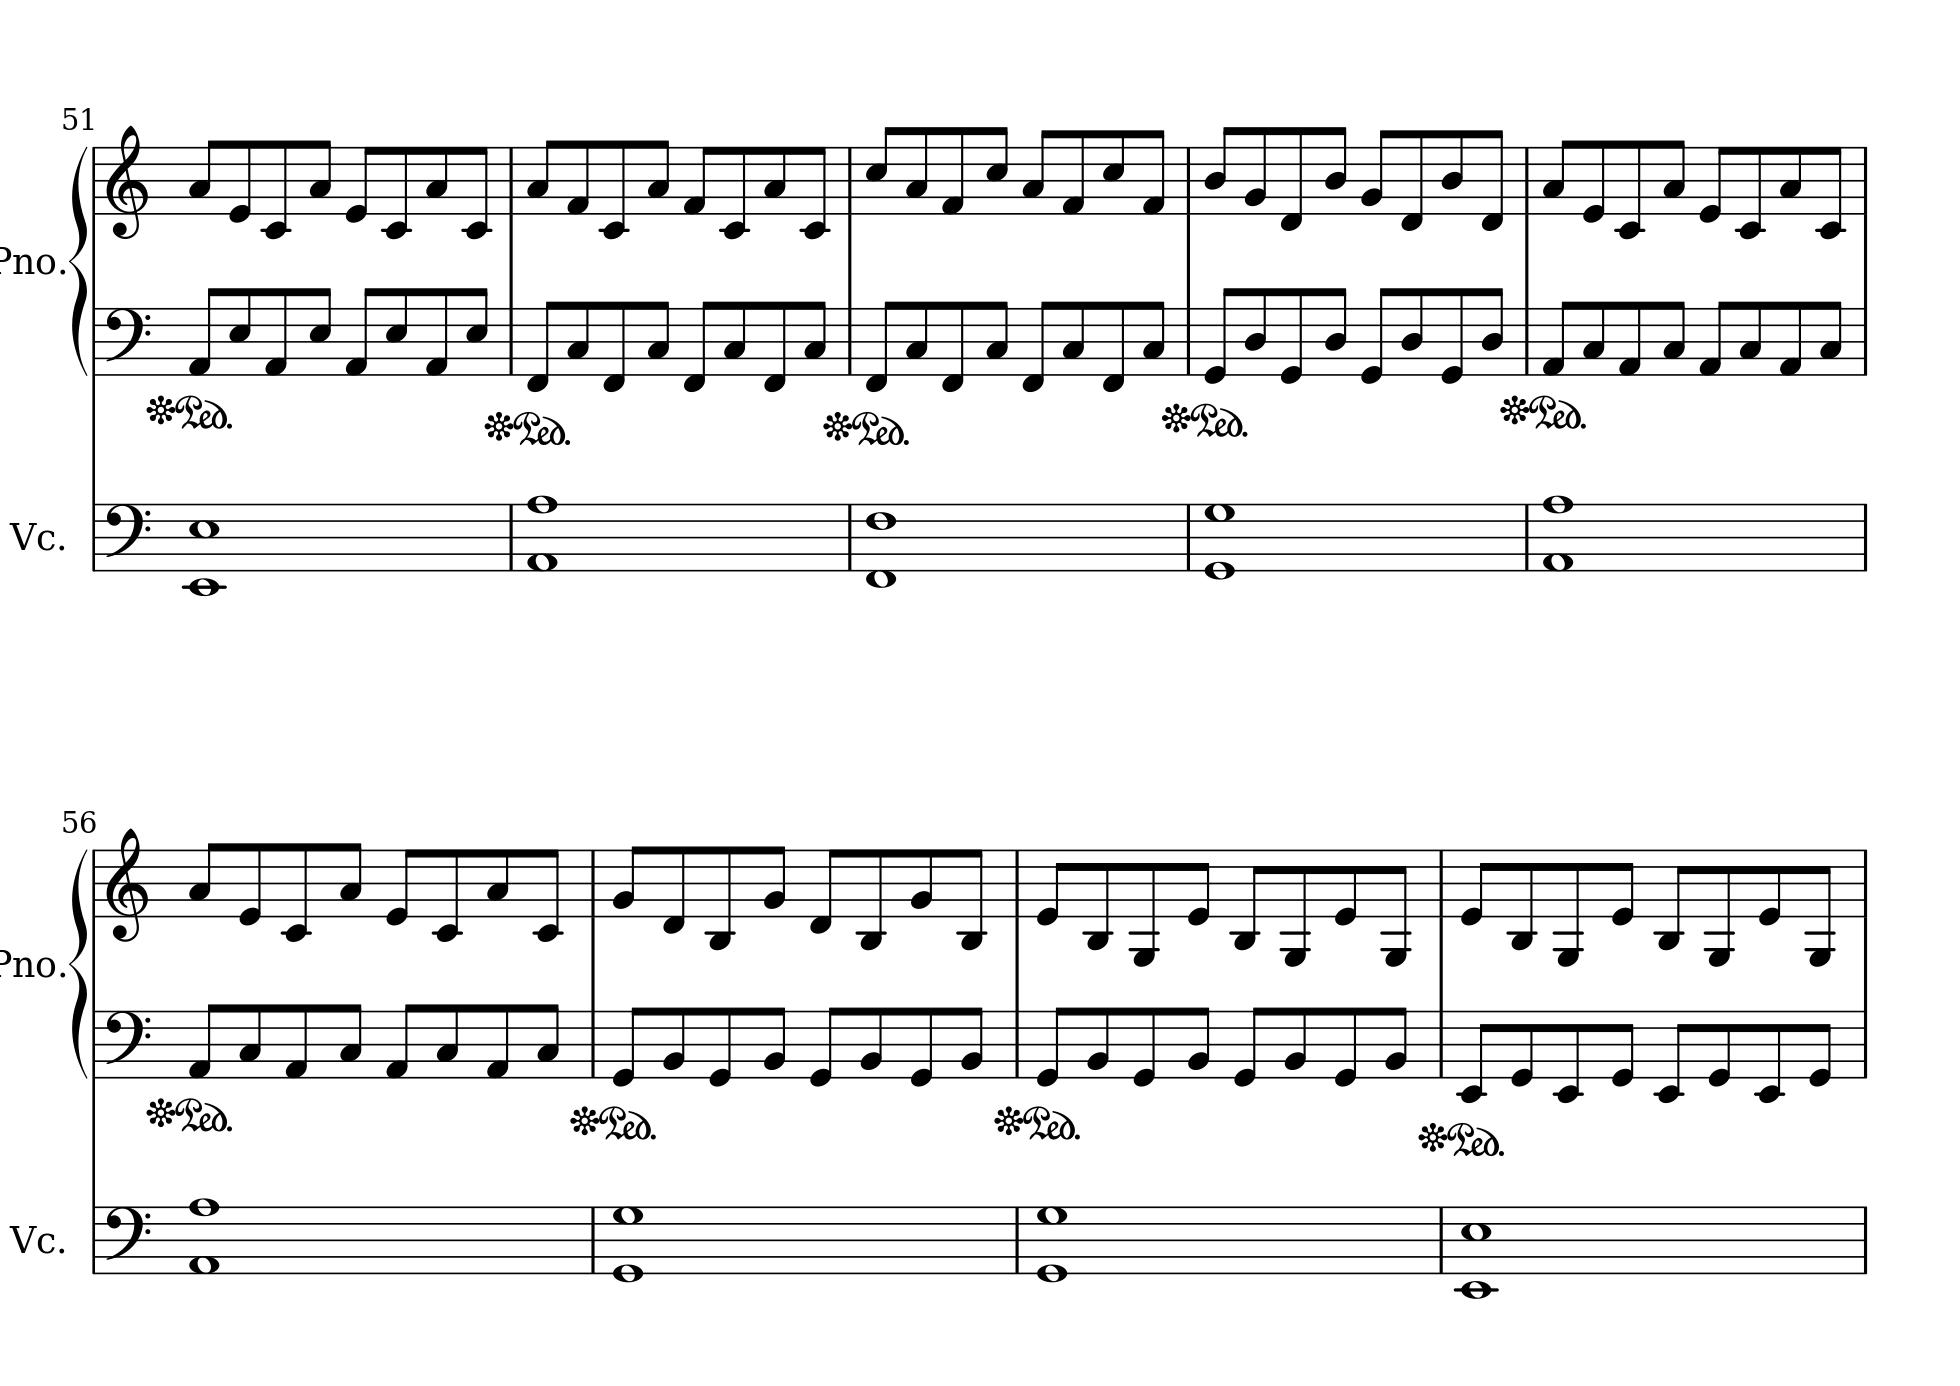1: (81, 105, 94, 133)
1_-1_6: (861, 502, 897, 592)
1_-2_5: (1452, 1204, 1501, 1299), (187, 502, 225, 603)
1_0_7: (1201, 499, 1236, 580), (1035, 1203, 1068, 1282), (610, 1203, 643, 1282)
1_1_8: (1539, 492, 1576, 574), (184, 1195, 220, 1278), (523, 492, 559, 573)
5: (61, 103, 78, 132), (61, 807, 78, 834)
6: (79, 805, 97, 834)
8_-1: (679, 298, 715, 394), (862, 298, 897, 394), (1020, 298, 1054, 394), (805, 846, 841, 934), (525, 298, 558, 394), (1276, 124, 1305, 234), (1398, 127, 1426, 232), (1477, 127, 1506, 232), (600, 298, 628, 394), (760, 298, 789, 394), (939, 298, 967, 394), (660, 844, 688, 936), (1101, 298, 1128, 394)
8_-2: (1653, 1008, 1692, 1104), (1614, 136, 1647, 241), (1458, 1006, 1494, 1102), (598, 136, 630, 241), (259, 138, 291, 240), (280, 841, 312, 943), (460, 145, 493, 240), (381, 144, 412, 241), (799, 144, 831, 241), (1735, 144, 1767, 241), (532, 846, 564, 943), (718, 145, 750, 241), (1815, 144, 1846, 240), (432, 847, 463, 943), (1755, 1006, 1785, 1105), (1554, 1008, 1584, 1105)
8_-3: (1230, 847, 1266, 951), (1654, 847, 1690, 951), (705, 844, 736, 952), (856, 847, 888, 951), (957, 847, 988, 949), (1083, 847, 1114, 949), (1507, 847, 1539, 949)
8_-5: (1704, 847, 1737, 967), (1129, 846, 1161, 967), (1554, 846, 1585, 967), (1281, 847, 1312, 967), (1381, 847, 1413, 966), (1806, 847, 1836, 967)
8_0: (1203, 285, 1237, 385), (1359, 285, 1392, 387), (807, 1003, 843, 1089), (1231, 1003, 1267, 1089), (1278, 285, 1306, 387), (1438, 285, 1467, 387), (1035, 1003, 1069, 1087), (384, 844, 418, 927), (610, 1003, 643, 1089), (1698, 144, 1731, 225), (343, 144, 376, 223), (1461, 847, 1492, 927), (237, 840, 265, 927), (1036, 847, 1068, 925), (907, 1003, 936, 1089), (1131, 1003, 1159, 1089), (1332, 1003, 1360, 1089), (706, 1005, 735, 1089), (226, 138, 253, 225), (1581, 138, 1608, 225), (1186, 846, 1213, 928), (1611, 847, 1638, 928), (1758, 847, 1785, 928), (1333, 847, 1360, 927), (1611, 1008, 1638, 1087), (1707, 1008, 1734, 1087), (1807, 1008, 1834, 1087), (1510, 1006, 1536, 1087)
8_1: (342, 283, 378, 378), (186, 285, 222, 376), (184, 1000, 220, 1080), (421, 285, 451, 378), (382, 1000, 417, 1078), (1540, 298, 1573, 378), (1698, 298, 1731, 376), (1060, 127, 1089, 217), (262, 285, 289, 378), (940, 124, 967, 216), (1140, 127, 1167, 216), (681, 144, 712, 217), (282, 1000, 310, 1080), (483, 1000, 511, 1080), (1777, 298, 1806, 376), (1617, 298, 1644, 378), (565, 138, 592, 216)
8_2: (1359, 127, 1392, 216), (1242, 124, 1269, 217), (612, 843, 643, 918), (1383, 1003, 1410, 1081), (760, 1003, 787, 1080), (958, 1003, 985, 1080), (1185, 1005, 1212, 1080), (762, 843, 787, 919), (661, 1005, 687, 1080), (858, 1005, 883, 1080), (1086, 1005, 1111, 1080), (1282, 1005, 1308, 1080), (909, 846, 934, 919)
8_3: (1021, 127, 1053, 216), (187, 136, 220, 214), (187, 840, 220, 918), (904, 124, 931, 217), (526, 136, 558, 214), (1542, 136, 1573, 214), (337, 840, 364, 919), (237, 1000, 264, 1080), (433, 1000, 460, 1080), (565, 298, 592, 376), (721, 298, 748, 376), (984, 298, 1011, 376), (1581, 298, 1608, 376), (645, 136, 670, 216), (337, 1000, 363, 1080), (535, 1000, 561, 1080), (645, 298, 670, 376), (802, 298, 828, 376), (904, 298, 930, 376), (1062, 298, 1087, 376), (1141, 298, 1167, 376), (1738, 298, 1764, 376), (1819, 298, 1845, 376), (424, 144, 451, 217), (762, 144, 789, 217), (1777, 144, 1804, 216), (484, 847, 511, 919), (307, 136, 331, 216), (1662, 138, 1686, 216), (1662, 298, 1686, 376)
8_4: (1203, 124, 1236, 216), (1242, 283, 1269, 376), (1479, 285, 1506, 376), (1440, 127, 1467, 214), (1323, 285, 1348, 376), (1399, 285, 1425, 376), (1323, 124, 1348, 214)
8_5: (865, 124, 897, 216), (226, 285, 253, 376), (984, 124, 1009, 216), (384, 285, 409, 376), (463, 285, 489, 376), (1101, 127, 1126, 216), (307, 285, 331, 376)
Brace: (69, 139, 91, 378), (67, 841, 90, 1080)
Fclef: (102, 1008, 153, 1078), (103, 1204, 154, 1275), (102, 304, 151, 376), (103, 501, 153, 573)
Gclef: (103, 121, 150, 240), (103, 825, 150, 942)
Pno: (1, 243, 55, 277), (1, 946, 55, 979)
Single_barline: (1432, 849, 1452, 916), (1179, 504, 1198, 570), (1518, 145, 1536, 214), (841, 502, 859, 571), (502, 502, 520, 570), (1518, 502, 1536, 570), (583, 1206, 601, 1273), (1857, 847, 1873, 919), (1857, 145, 1873, 216), (502, 145, 519, 214), (841, 145, 858, 214), (1180, 145, 1197, 214), (1857, 307, 1873, 376), (585, 849, 601, 918), (585, 1009, 601, 1078), (1009, 1009, 1026, 1078), (502, 307, 519, 375), (1519, 307, 1536, 375), (1857, 502, 1873, 570), (85, 1206, 102, 1273), (1009, 1206, 1026, 1273), (1434, 1206, 1450, 1273), (1009, 850, 1026, 916), (1857, 1206, 1873, 1272), (87, 502, 102, 571), (1434, 1009, 1449, 1078), (1857, 1009, 1872, 1078), (841, 307, 856, 375), (1180, 307, 1195, 373), (88, 145, 102, 214), (88, 849, 102, 916), (88, 1009, 102, 1077), (88, 307, 102, 373)
Vc: (7, 1219, 60, 1260), (9, 516, 57, 553)
